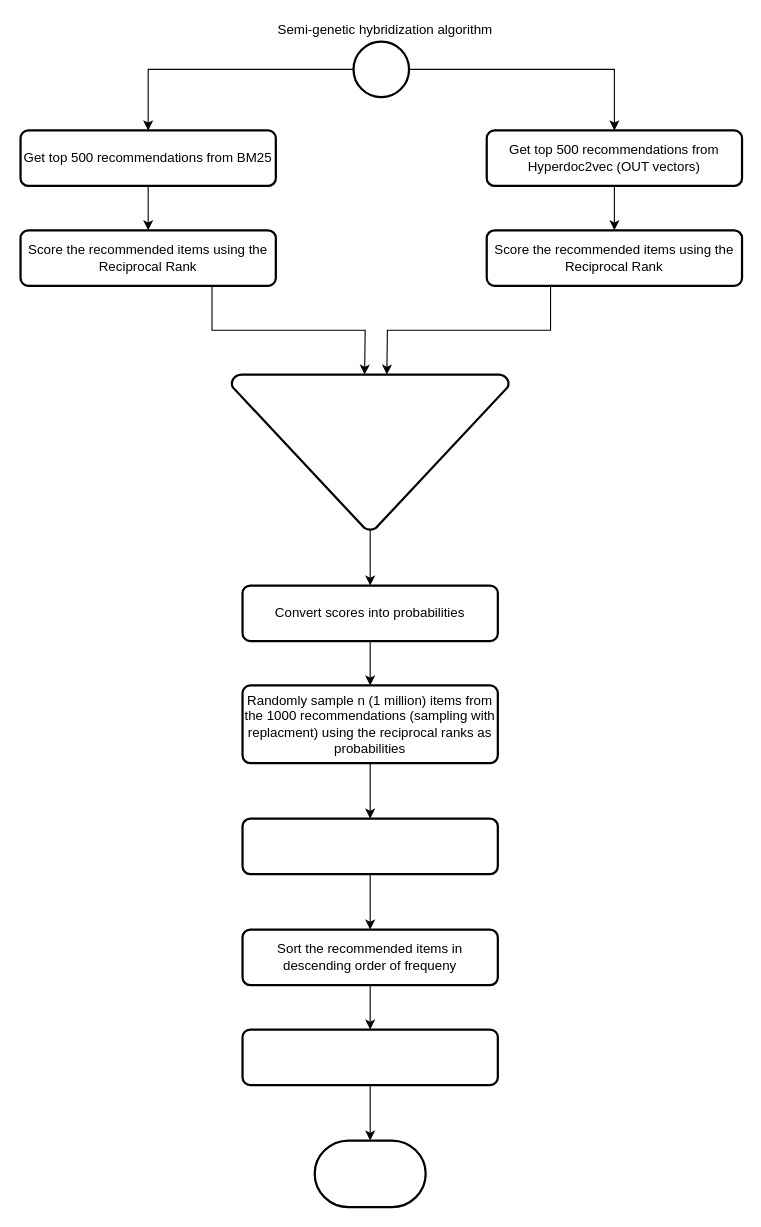
This 761x1227 diagram has some shape labels left out. Here are the shapes that lost their labels. From the top down, the centre of each, then its label:
At (x=369, y=452): "Merge recommendations: Result: 1000 recommendations with corresponding scores".
At (x=369, y=846): "Count the frequencies of all the items".
At (x=369, y=1057): "Solution set: the top k items form the solution set".
